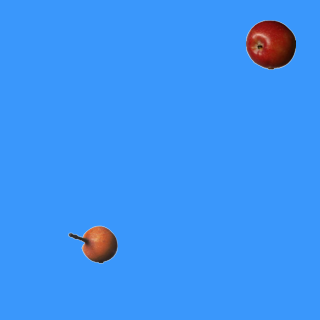Apple Braeburn: (245, 19, 295, 69)
Granadilla: (67, 219, 117, 269)
